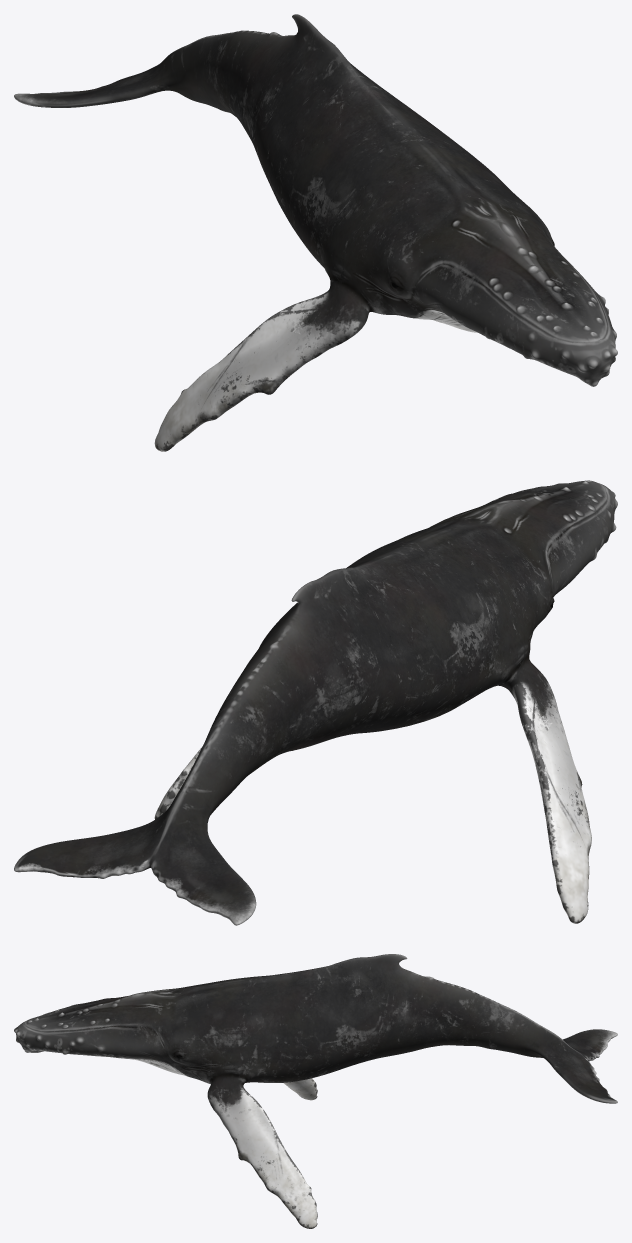
Rendered from humpback_whale.glb.
3 views of the same model, one above another, from view 1: azimuth 30°, elevation 25°; view 2: azimuth 150°, elevation 25°; view 3: azimuth 270°, elevation 25° (orthographic). The views are drawn at different scales.
Parts seen in each view (by area): view 1: polySurface1; view 2: polySurface1; view 3: polySurface1.
Part boxes in pixels (x1=…): polySurface1: x1=14, y1=14, x2=617, y2=451; polySurface1: x1=14, y1=480, x2=617, y2=925; polySurface1: x1=14, y1=954, x2=617, y2=1228.
Bounding box in the file's own units: 6.84 × 5.11 × 13.3.
Materials: 1 (1 with a texture image).
